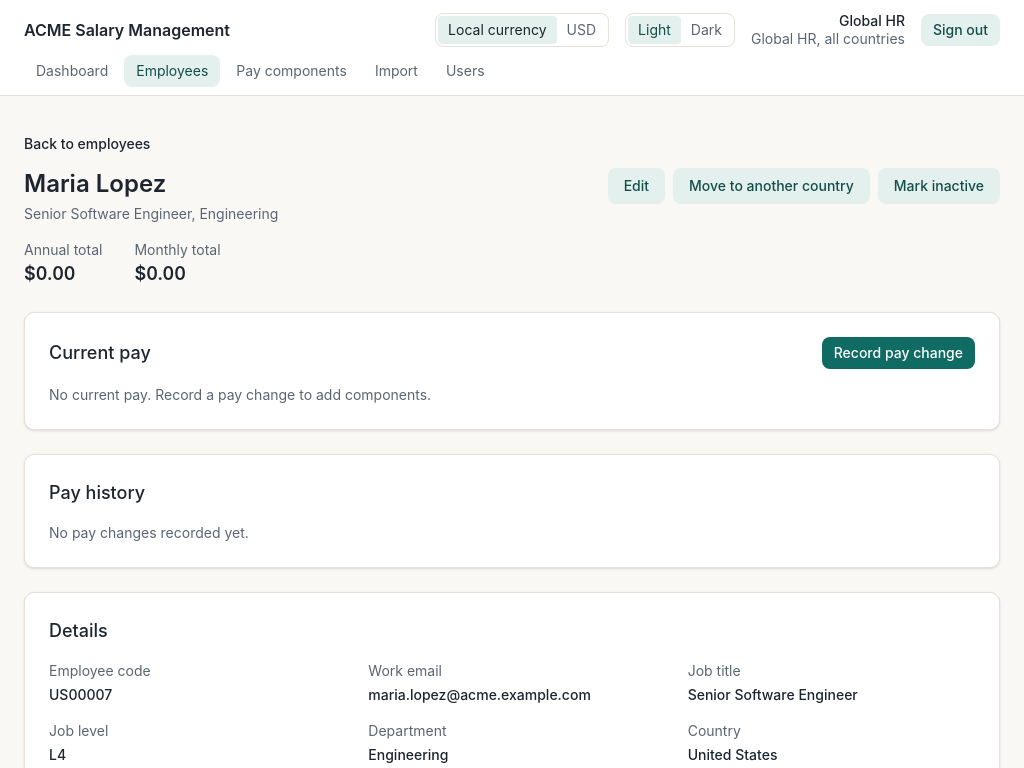
Test: EmployeePage › marks the employee inactive only after confirming the date
The width and height of the screenshot is (1024, 768).
Click the button "Mark inactive". click: coordinates (939, 186)
box: [878,168,1000,204]
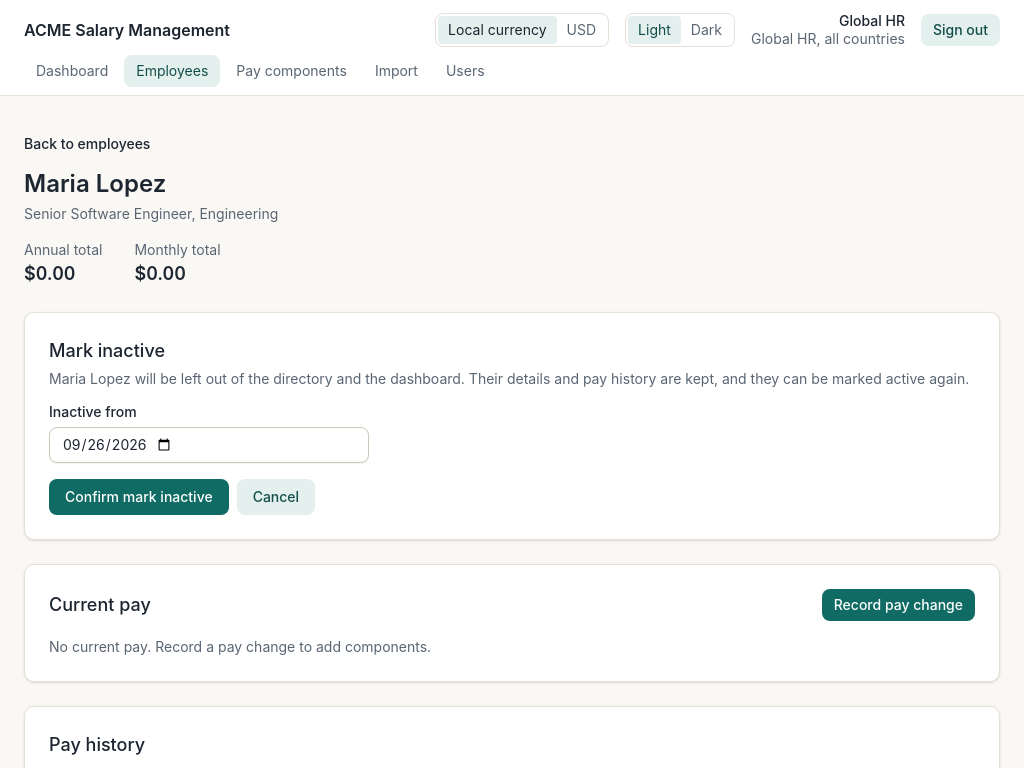
Click the button "Cancel". click: coordinates (276, 497)
box: [237,479,315,515]
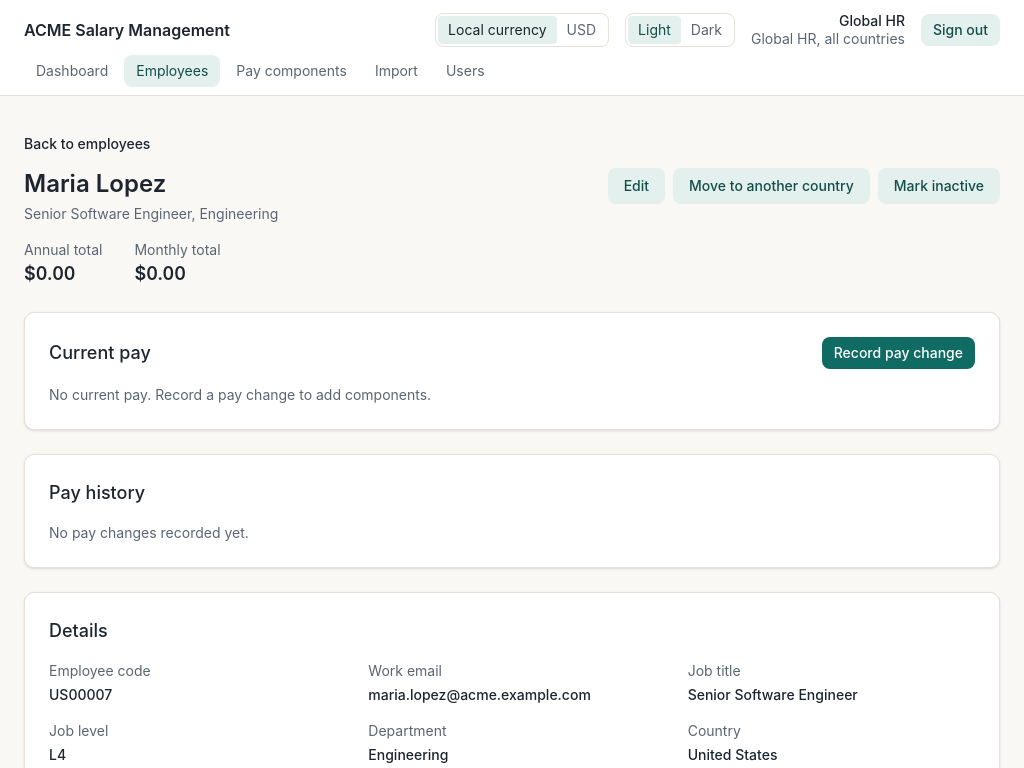
Click the button "Mark inactive". click: coordinates (939, 186)
box: [878,168,1000,204]
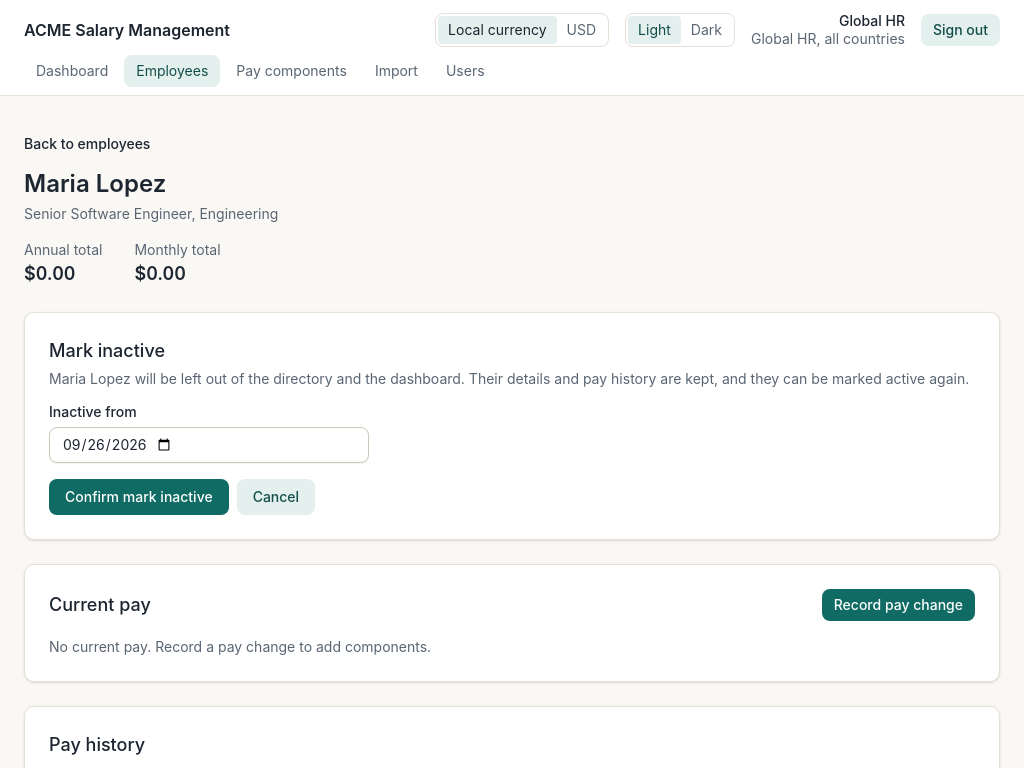
Type "2026-09-20" into the date field labelled "Inactive from". click: coordinates (209, 445)
box: [49,427,369,463]
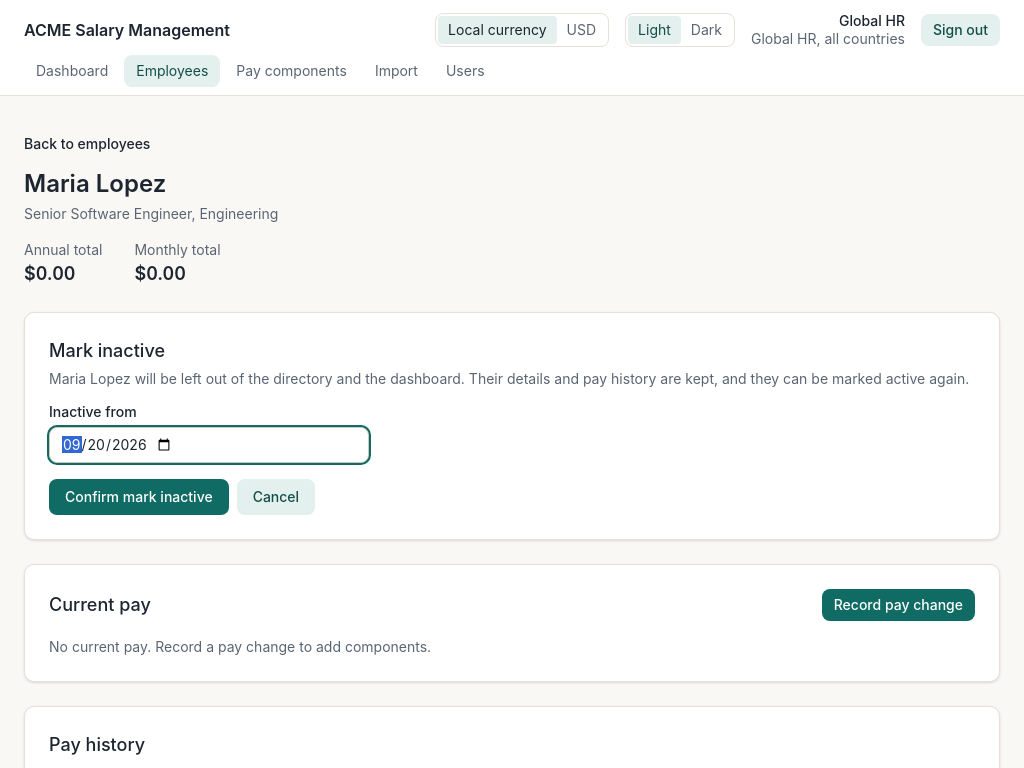
Click the button "Confirm mark inactive". click: coordinates (139, 497)
box: [49,479,229,515]
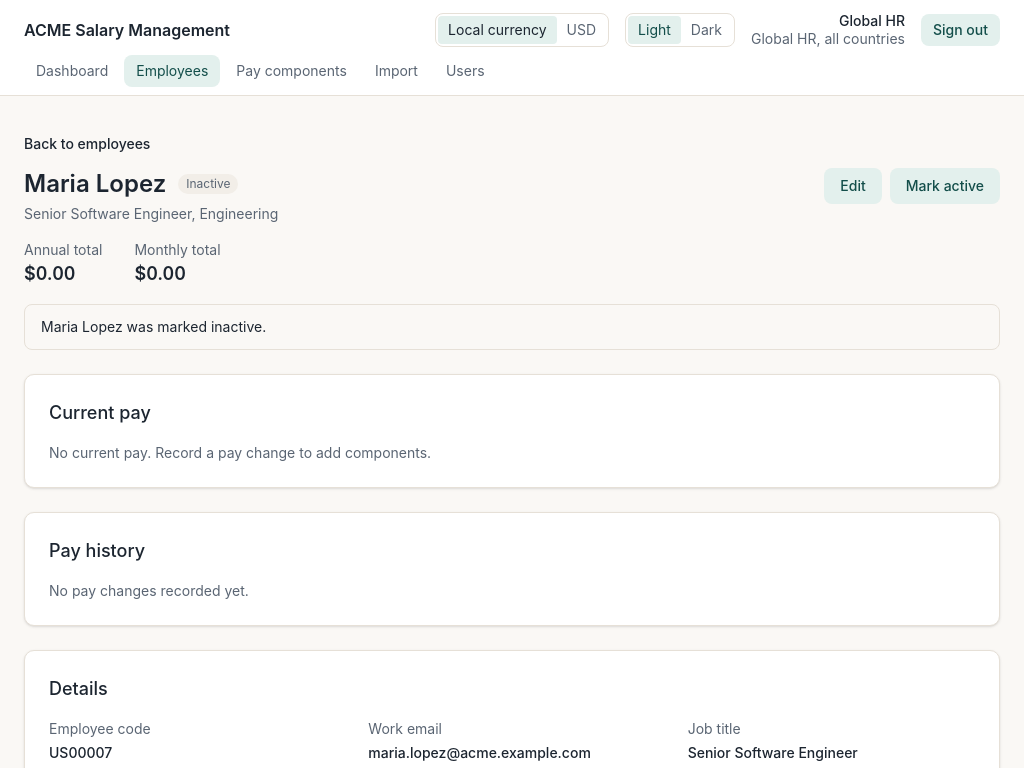
Expected: the text "Maria Lopez was marked inactive." is shown, [24,304,1000,350]
Expected: the button "Mark active" is shown, [890,168,1000,204]
